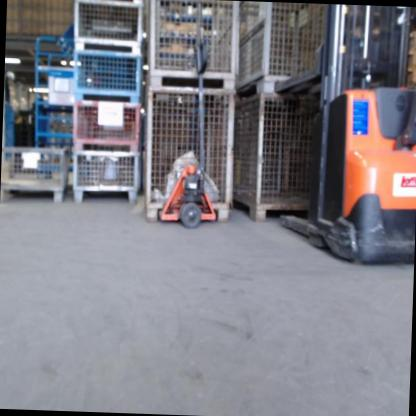pallet_truck: (264, 4, 416, 269), (147, 30, 227, 224)
stillage: (227, 94, 352, 231), (143, 86, 234, 229), (234, 3, 358, 98), (146, 0, 238, 89), (0, 143, 67, 208), (72, 0, 146, 53), (71, 49, 145, 102), (71, 148, 141, 204), (74, 101, 143, 151)
